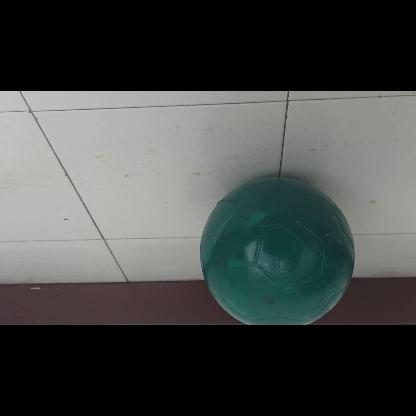green_ball: (199, 173, 356, 325)
